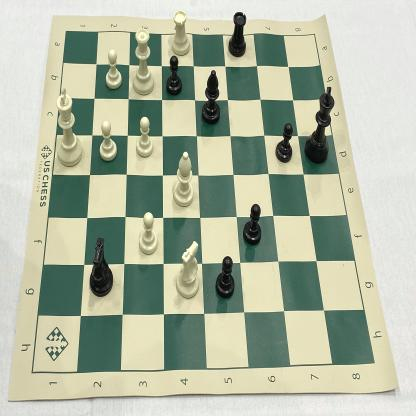black-bishop: (198, 66, 223, 127)
black-king: (303, 84, 337, 168)
black-knight: (214, 253, 237, 301)
black-pawn: (241, 199, 264, 250), (275, 121, 295, 168), (164, 53, 185, 97)
black-rook: (226, 7, 250, 61)
white-bishop: (170, 146, 196, 211)
white-king: (52, 82, 84, 169)
white-knight: (87, 234, 116, 301), (174, 236, 203, 302), (134, 114, 156, 162)
white-pawn: (137, 206, 160, 258), (96, 119, 121, 165), (103, 47, 124, 93)
white-queen: (132, 25, 156, 99)
white-rook: (169, 6, 192, 59)
